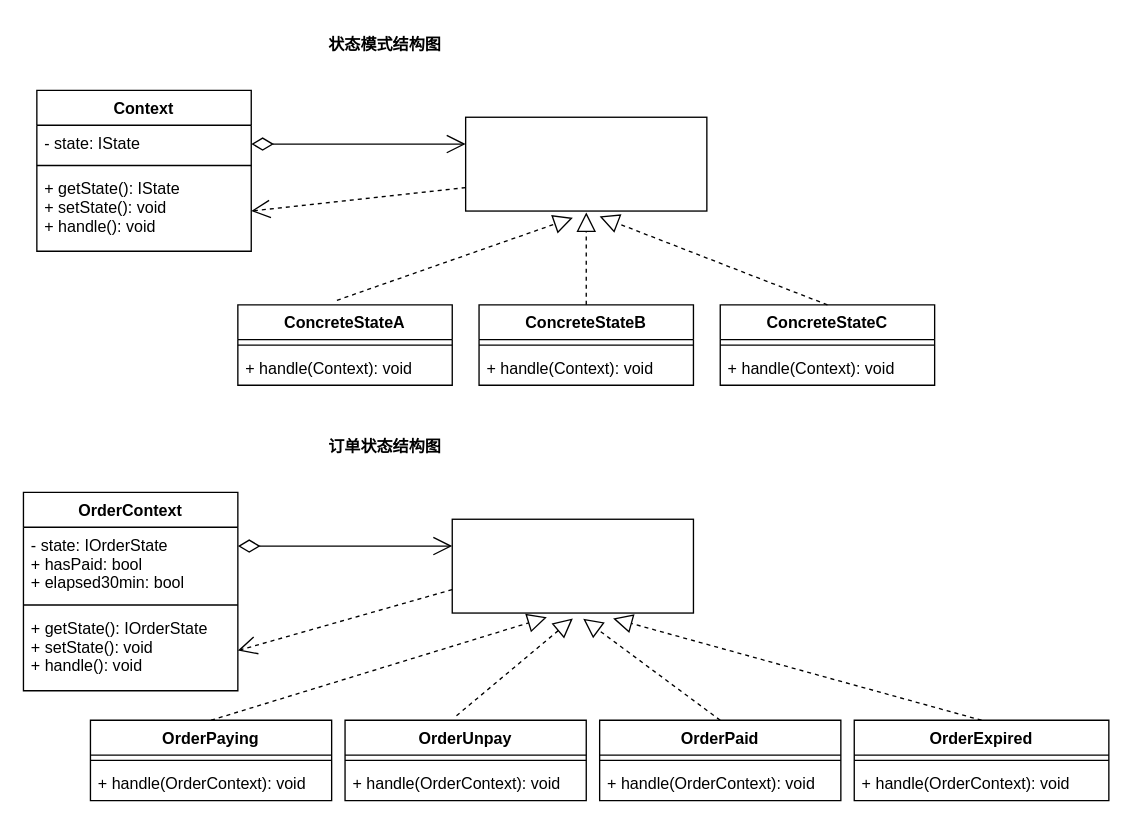
The diagram is 1132 pixels wide and 827 high, and some of its shapes have lost their labels. The centre of each missing label's shape, as x and y in pixels:
<<Interface>> IOrderState + handle(OrderContext): void: point (572, 565)
<<Interface>> IState + handle(Context): void: point (585, 163)
